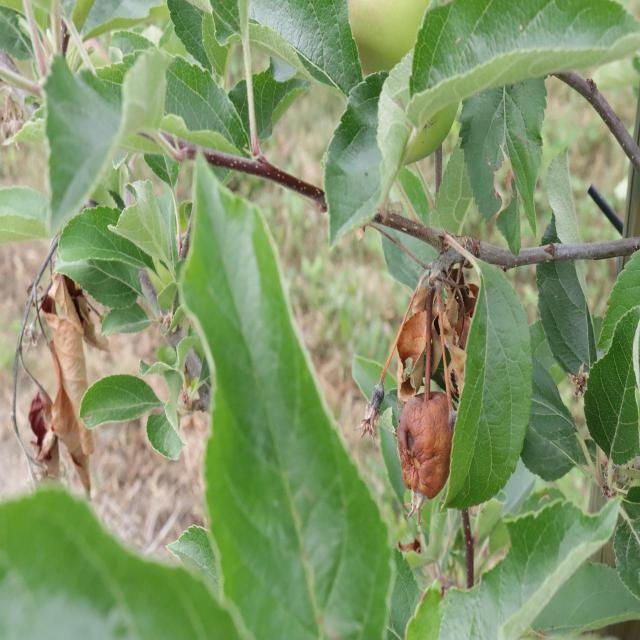-FireBlight-: (372, 261, 490, 507), (15, 269, 97, 494)
